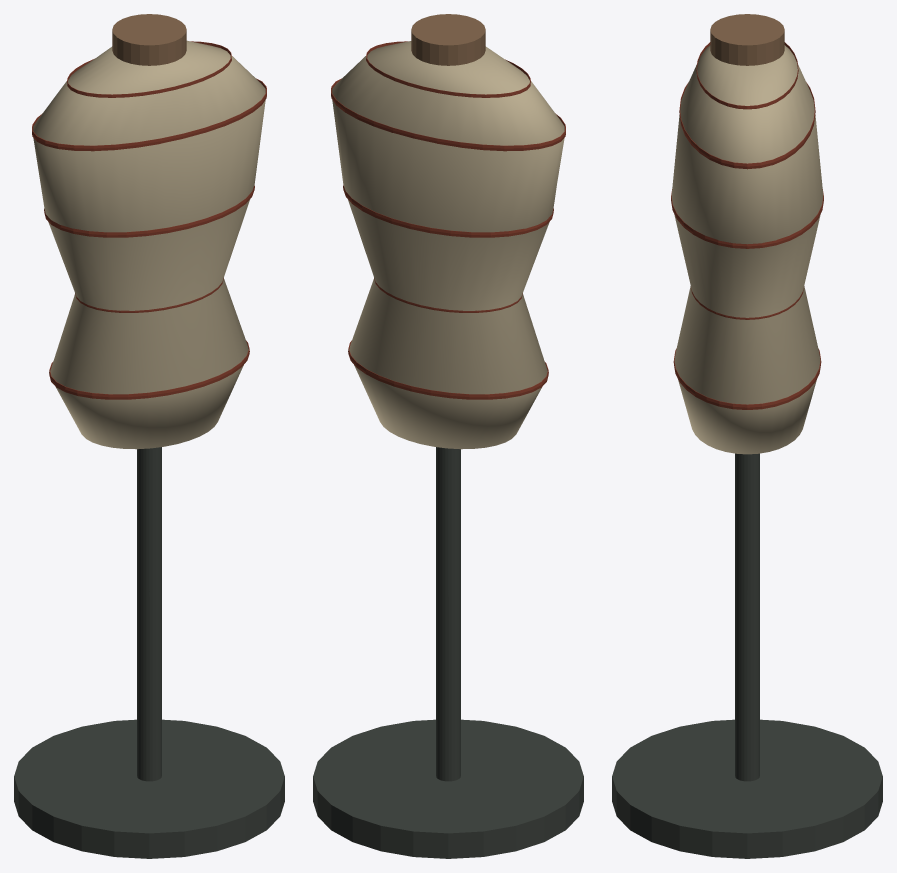
The model's file is dress-form.fbx.
3 views of the same model, side by side, from view 1: azimuth 30°, elevation 25°; view 2: azimuth 150°, elevation 25°; view 3: azimuth 270°, elevation 25° (orthographic).
Visible parts, largest first — view 1: Headless dress form, Stand base, Support, Neck cap, Fitting guide seam.003, Fitting guide seam, Fitting guide seam.002, Fitting guide seam.004; view 2: Headless dress form, Stand base, Support, Neck cap, Fitting guide seam.003, Fitting guide seam, Fitting guide seam.002, Fitting guide seam.004; view 3: Headless dress form, Stand base, Support, Neck cap, Fitting guide seam.003, Fitting guide seam, Fitting guide seam.002, Fitting guide seam.004.
Boxes of the visible parts, left/top/right/bottom form: Headless dress form: left=33, top=40, right=265, bottom=449; Stand base: left=14, top=719, right=284, bottom=858; Support: left=137, top=447, right=161, bottom=781; Neck cap: left=112, top=14, right=186, bottom=65; Fitting guide seam.003: left=32, top=78, right=266, bottom=151; Fitting guide seam: left=49, top=340, right=249, bottom=399; Fitting guide seam.002: left=44, top=185, right=254, bottom=237; Fitting guide seam.004: left=67, top=41, right=231, bottom=97; Headless dress form: left=332, top=41, right=564, bottom=449; Stand base: left=313, top=719, right=583, bottom=858; Support: left=436, top=447, right=460, bottom=781; Neck cap: left=411, top=14, right=485, bottom=65; Fitting guide seam.003: left=331, top=78, right=565, bottom=151; Fitting guide seam: left=348, top=340, right=548, bottom=399; Fitting guide seam.002: left=343, top=185, right=553, bottom=237; Fitting guide seam.004: left=366, top=41, right=530, bottom=97; Headless dress form: left=671, top=45, right=823, bottom=454; Stand base: left=612, top=719, right=882, bottom=858; Support: left=735, top=453, right=759, bottom=781; Neck cap: left=710, top=14, right=784, bottom=65; Fitting guide seam.003: left=679, top=82, right=815, bottom=169; Fitting guide seam: left=673, top=348, right=821, bottom=409; Fitting guide seam.002: left=671, top=189, right=823, bottom=248; Fitting guide seam.004: left=696, top=42, right=798, bottom=109.
Size of the model in its own units: 0.48 by 1.51 by 0.48.
